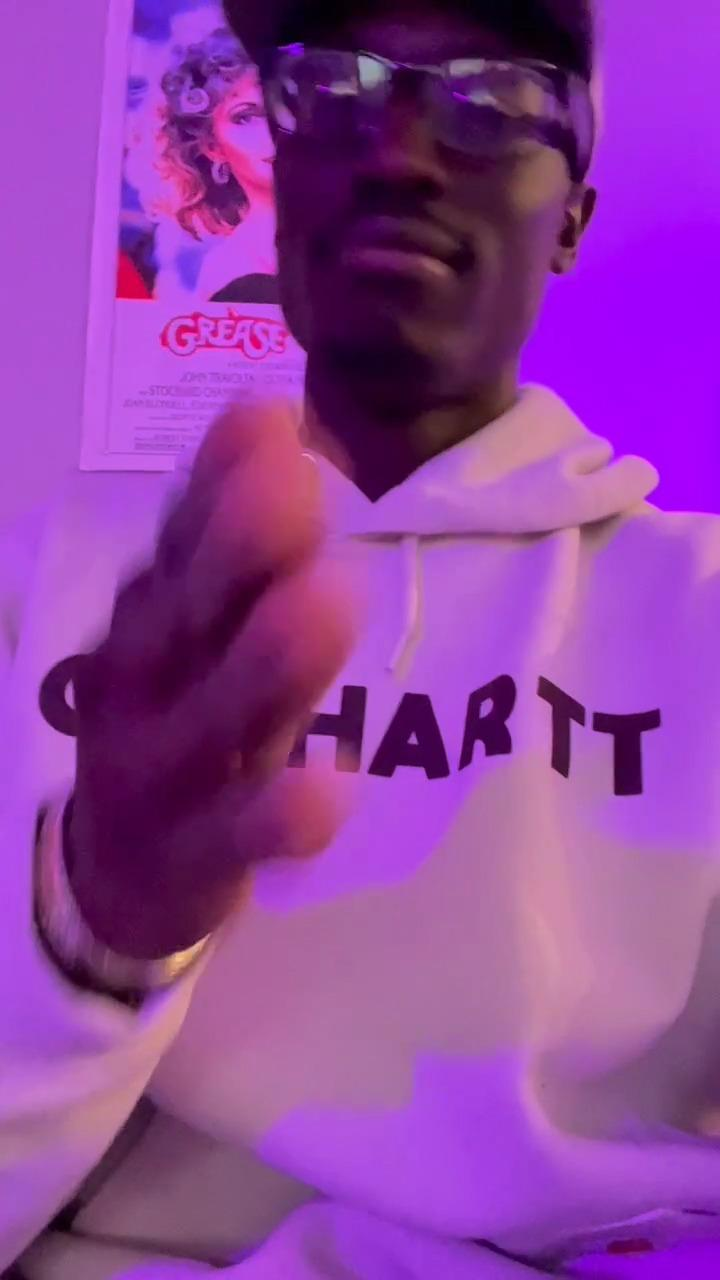Paper: (74, 390, 361, 926)
